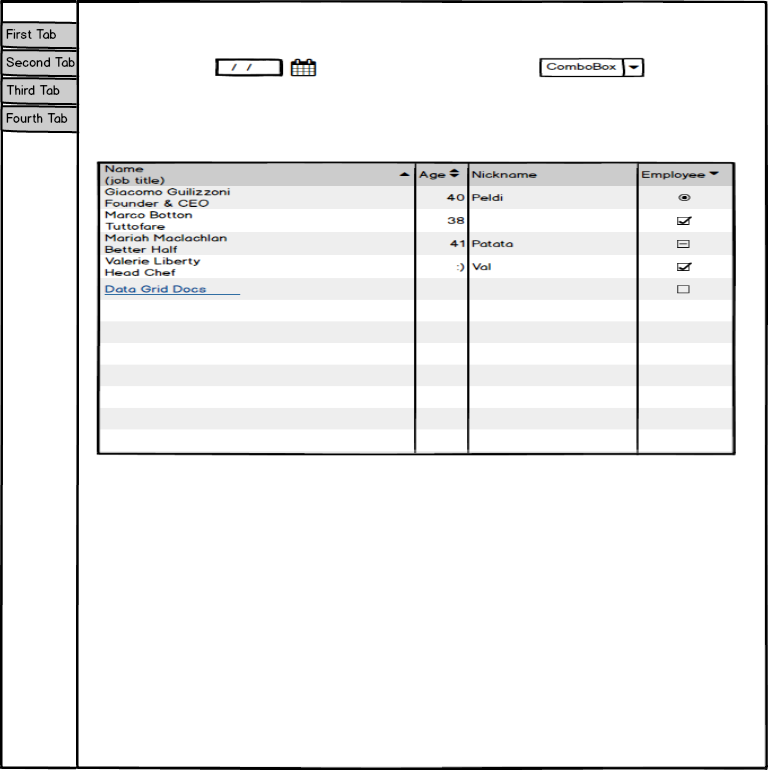date_picker: (206, 48, 326, 86)
select_box: (532, 50, 653, 86)
sidebar: (3, 15, 83, 142)
table: (91, 156, 742, 462)
